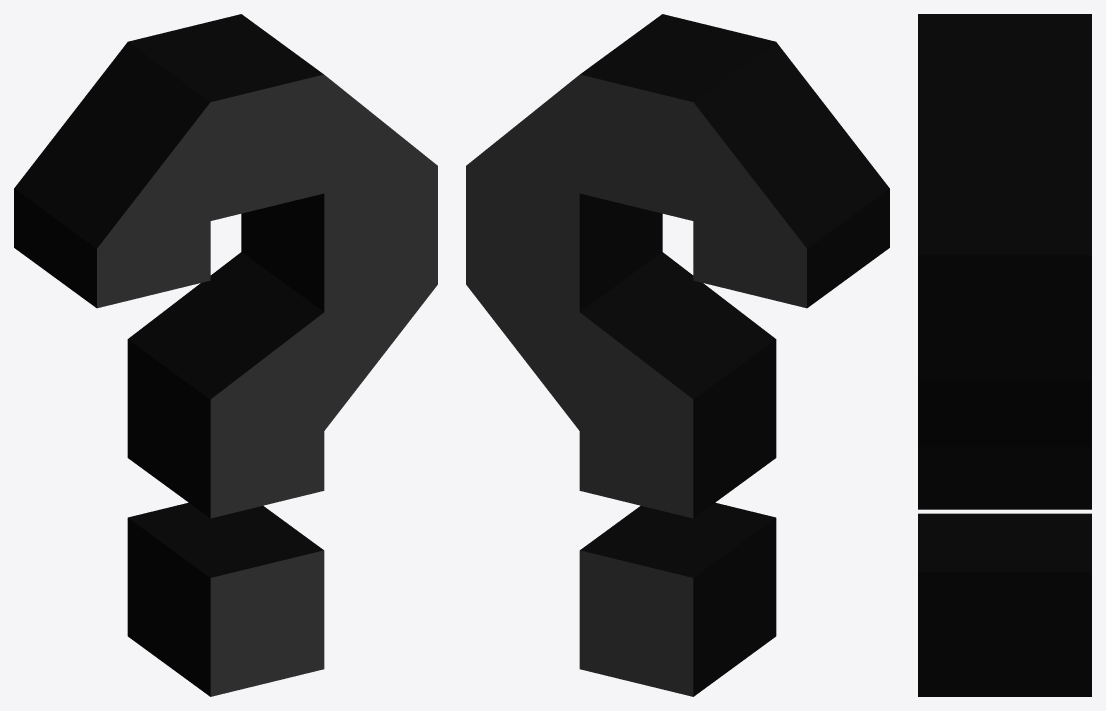
File: a5a96dcf-10db-4a37-bd15-e6b5c816948a.glb
3 views of the same model, side by side, from view 1: azimuth 30°, elevation 25°; view 2: azimuth 150°, elevation 25°; view 3: azimuth 270°, elevation 25° (orthographic). The views are drawn at different scales.
Visible parts, largest first — view 1: ?_DeltaBlock_Black; view 2: ?_DeltaBlock_Black; view 3: ?_DeltaBlock_Black.
Boxes of the visible parts, x1,y1,x2,y2 form: ?_DeltaBlock_Black: (14, 14, 437, 696); ?_DeltaBlock_Black: (466, 14, 889, 696); ?_DeltaBlock_Black: (918, 14, 1091, 696).
Size of what is drawn, in the model's own units: 0.1071 by 0.1786 by 0.045.
Materials: 2 (2 with a texture image).
